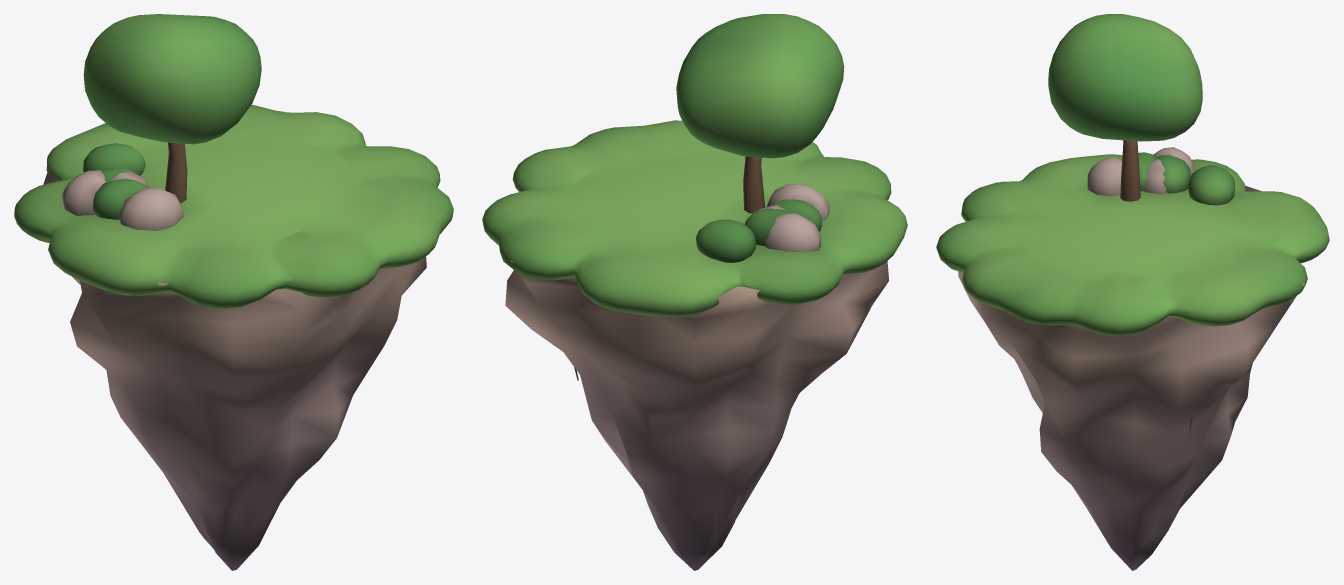
The model's file is env_sky_islet_4.glb.
3 renders of one model, left to right at view 1: azimuth 30°, elevation 25°; view 2: azimuth 150°, elevation 25°; view 3: azimuth 270°, elevation 25°, orthographic. The views are drawn at different scales.
Visible parts, largest first — view 1: SM_sky_sky_vc_x0_z0.032; view 2: SM_sky_sky_vc_x0_z0.032; view 3: SM_sky_sky_vc_x0_z0.032.
Part boxes in pixels (x1,y1,x2,y2): SM_sky_sky_vc_x0_z0.032: [14, 14, 453, 570]; SM_sky_sky_vc_x0_z0.032: [482, 14, 907, 570]; SM_sky_sky_vc_x0_z0.032: [936, 14, 1329, 570].
Bounding box in the file's own units: 7.53 × 10.92 × 7.57.
